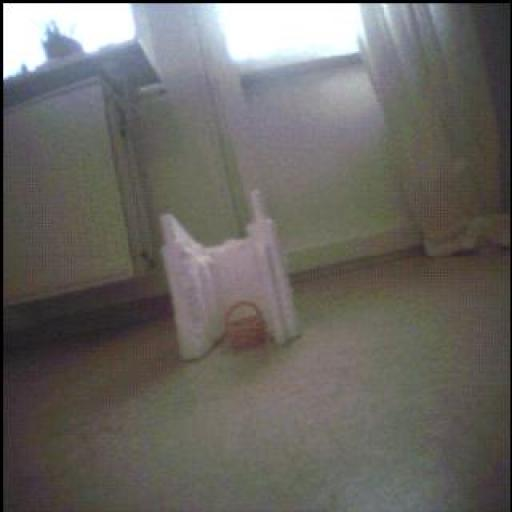Basket: (225, 302, 268, 350)
